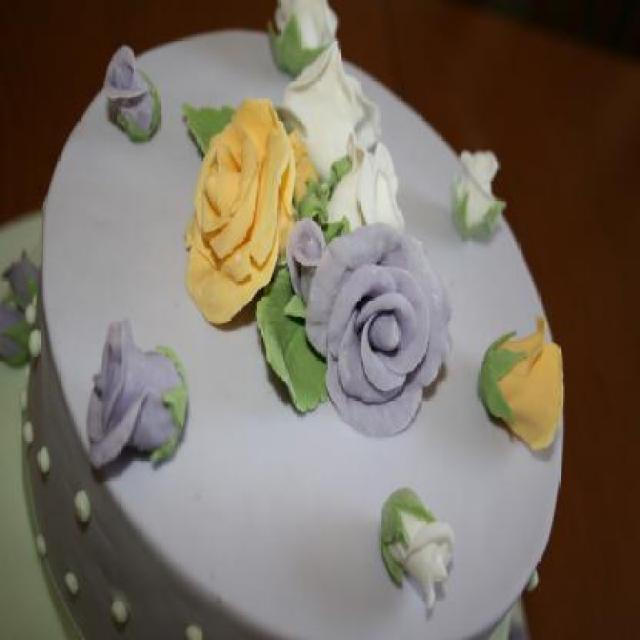Cake: (0, 0, 566, 638)
